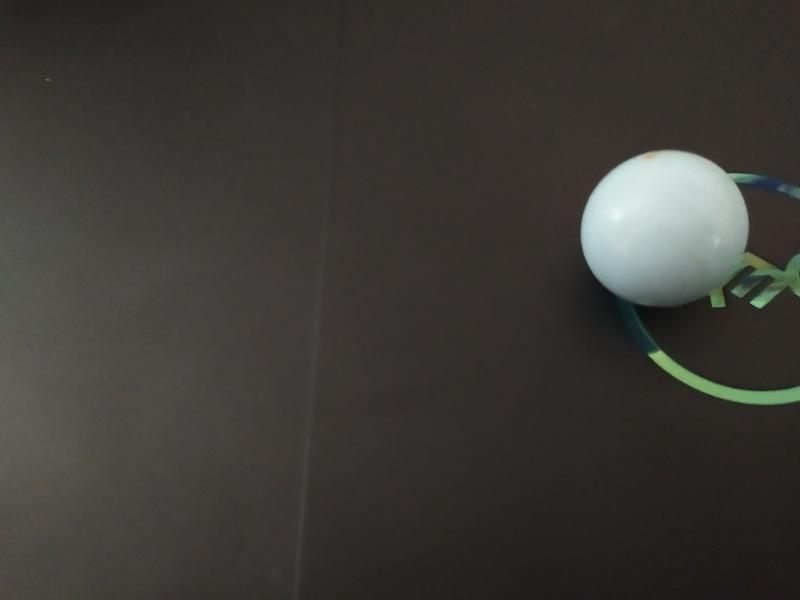Warning: (577, 147, 755, 312)
